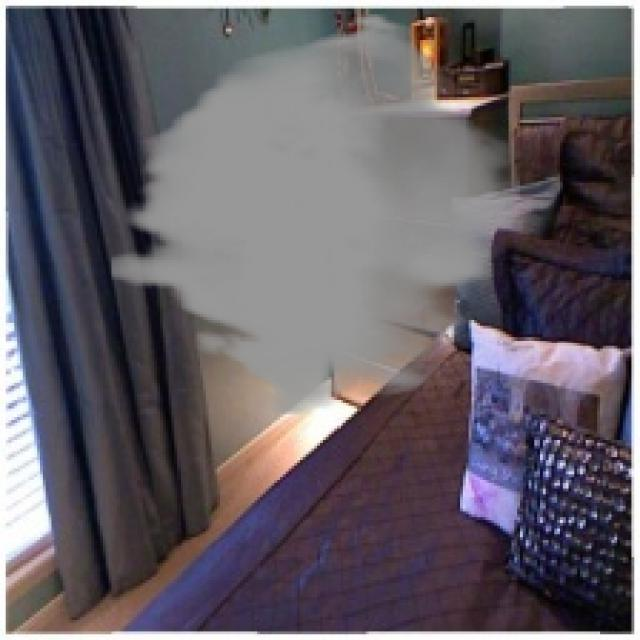Smoke: (111, 12, 520, 417)
